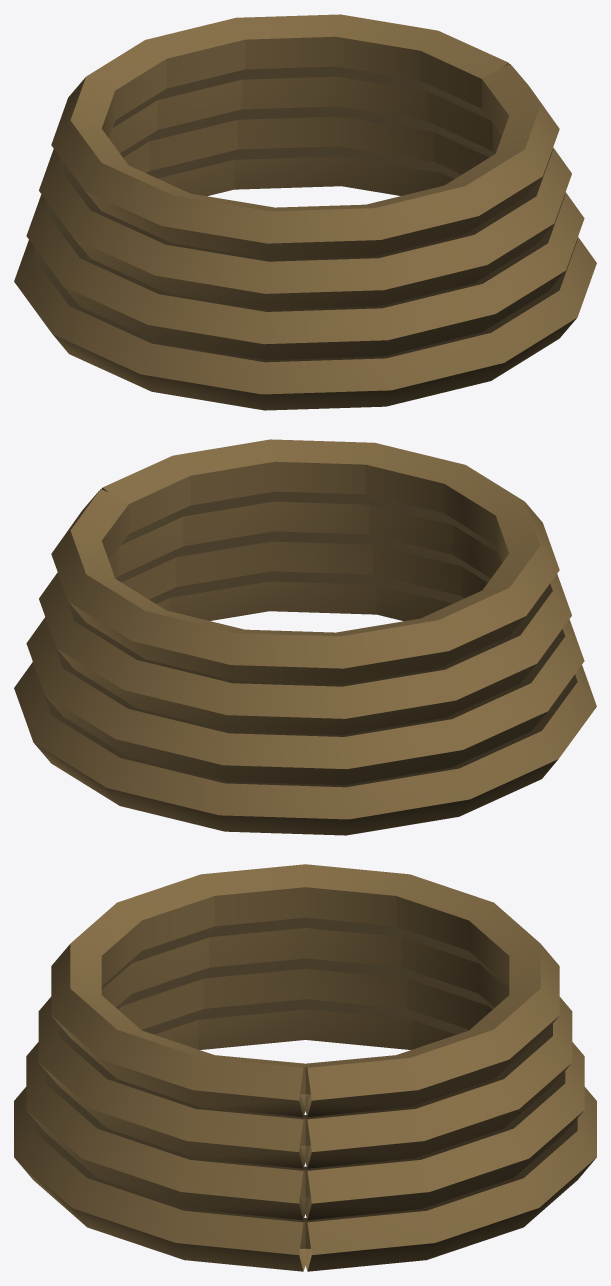
Rendered from cuerda.glb.
3 views of the same model, one above another, from view 1: azimuth 30°, elevation 25°; view 2: azimuth 150°, elevation 25°; view 3: azimuth 270°, elevation 25° (orthographic). The views are drawn at different scales.
Parts seen in each view (by area): view 1: cuerda; view 2: cuerda; view 3: cuerda.
Boxes of the visible parts, x1,y1,x2,y2 form: cuerda: [14, 14, 596, 410]; cuerda: [14, 439, 596, 835]; cuerda: [14, 864, 596, 1271].
Bounding box in the file's own units: 0.1878 × 0.0651 × 0.1833.
